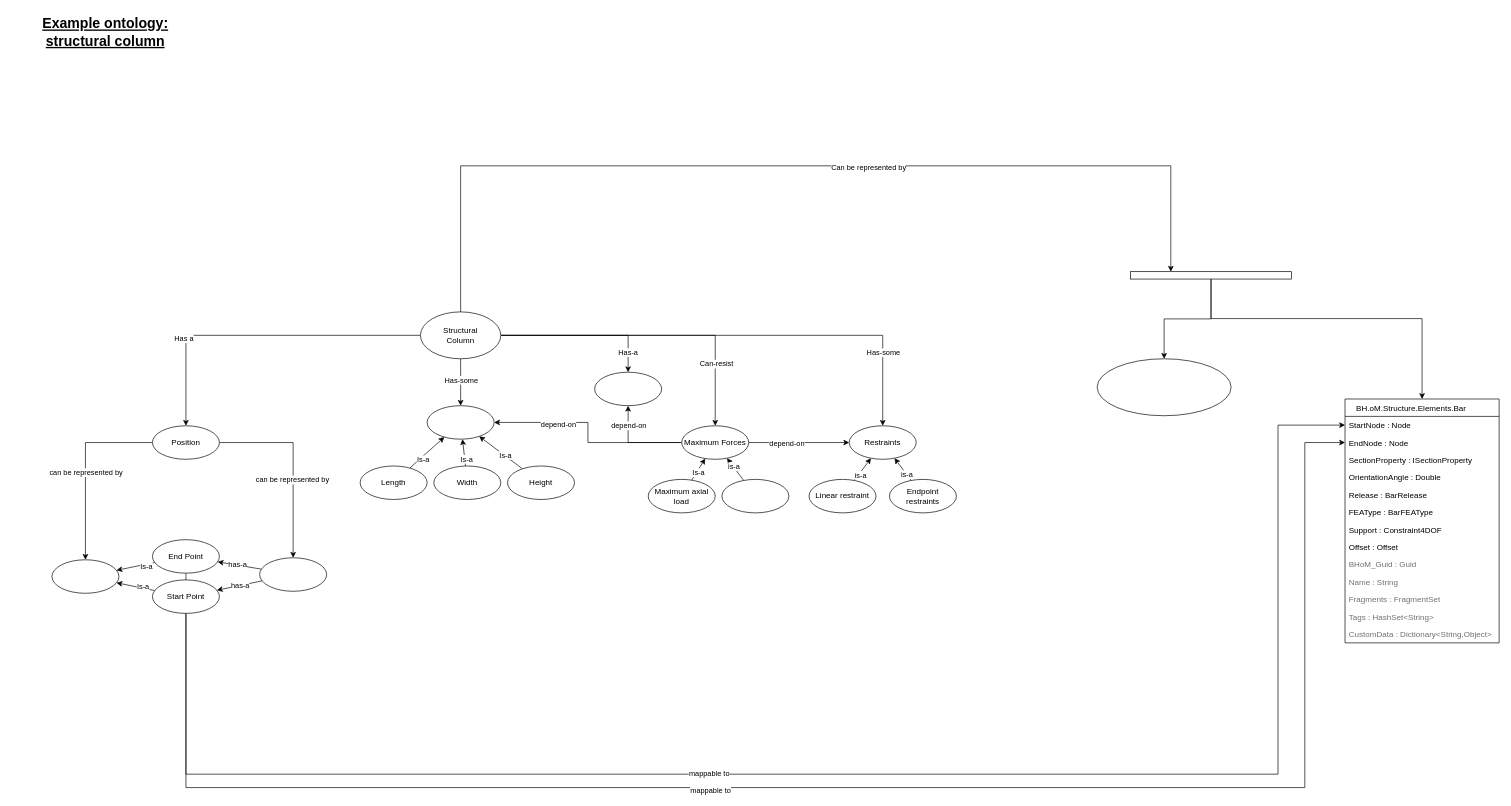
This 1511x806 diagram has some shape labels left out. The shapes that lost their labels are listed below. From the top down, each one's centre as x and y in pixels, then its label:
At point 628,389: "Material".
At point 1163,387: "Revit family instance (Structural Column)".
At point 460,422: "Dimensions".
At point 755,496: "Maximum moments".
At point 85,576: "End points".
At point 293,574: "Line".
